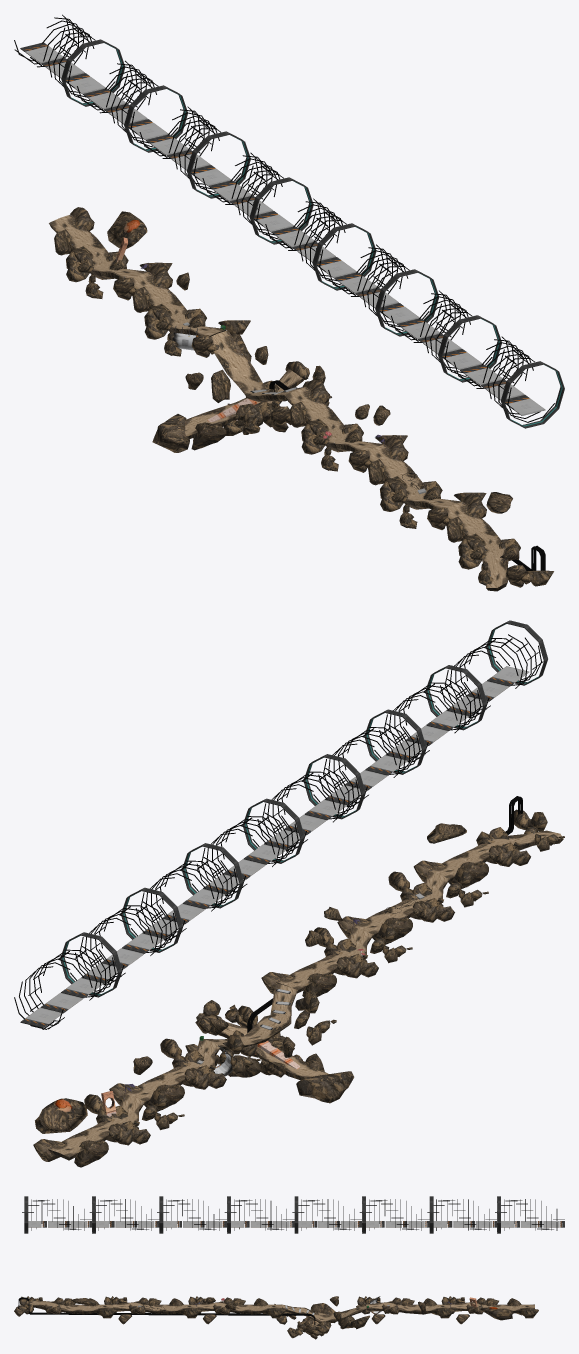
File: Colony_Tower_Bridge_Art.fbx
3 views of the same model, one above another, from view 1: azimuth 30°, elevation 25°; view 2: azimuth 150°, elevation 25°; view 3: azimuth 270°, elevation 25° (orthographic). The views are drawn at different scales.
Visible parts, largest first — view 1: Colony_Tower_Bridge_Art; view 2: Colony_Tower_Bridge_Art; view 3: Colony_Tower_Bridge_Art.
Boxes of the visible parts, <box> form: Colony_Tower_Bridge_Art: <box>14,14,564,591</box>; Colony_Tower_Bridge_Art: <box>14,620,564,1167</box>; Colony_Tower_Bridge_Art: <box>14,1196,564,1339</box>.
Size of the model in its own units: 1896 by 3018 by 10442.
